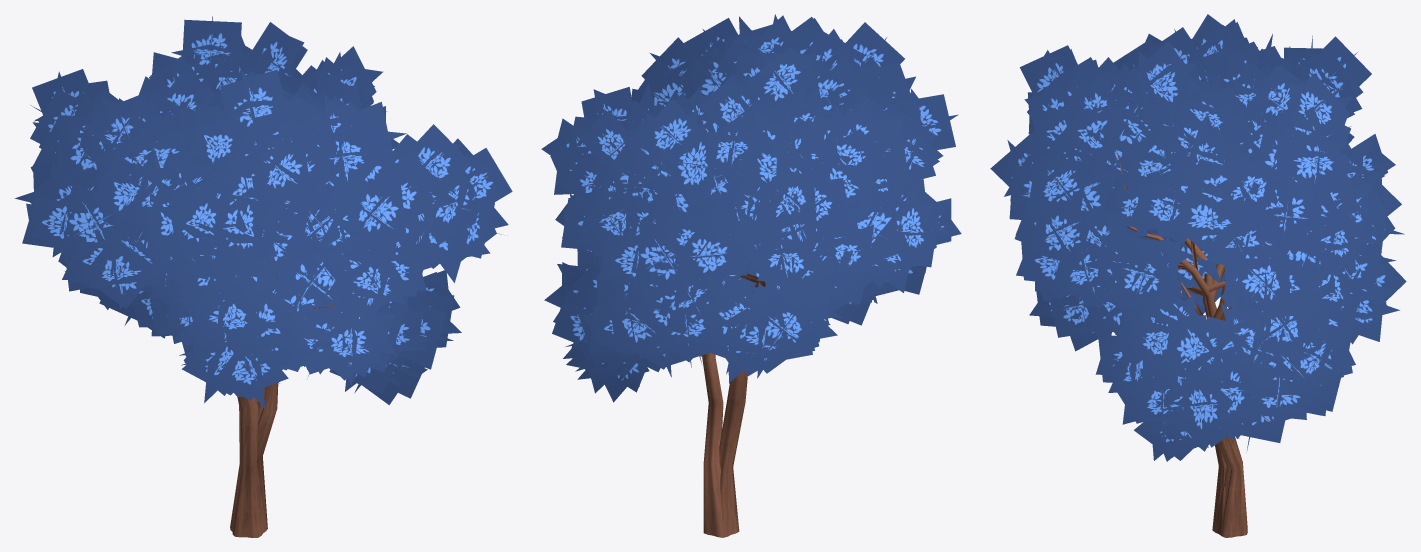
The model's file is B_Tree_01.glb.
3 views of the same model, side by side, from view 1: azimuth 30°, elevation 25°; view 2: azimuth 150°, elevation 25°; view 3: azimuth 270°, elevation 25° (orthographic). The views are drawn at different scales.
Parts seen in each view (by area): view 1: B_Tree_01; view 2: B_Tree_01; view 3: B_Tree_01.
Part boxes in pixels (<box>): B_Tree_01: <box>14,16,512,537</box>; B_Tree_01: <box>541,14,961,537</box>; B_Tree_01: <box>990,14,1406,537</box>.
Size of the model in its own units: 7.18 by 7.95 by 6.37.
2 materials, 2 textured.
